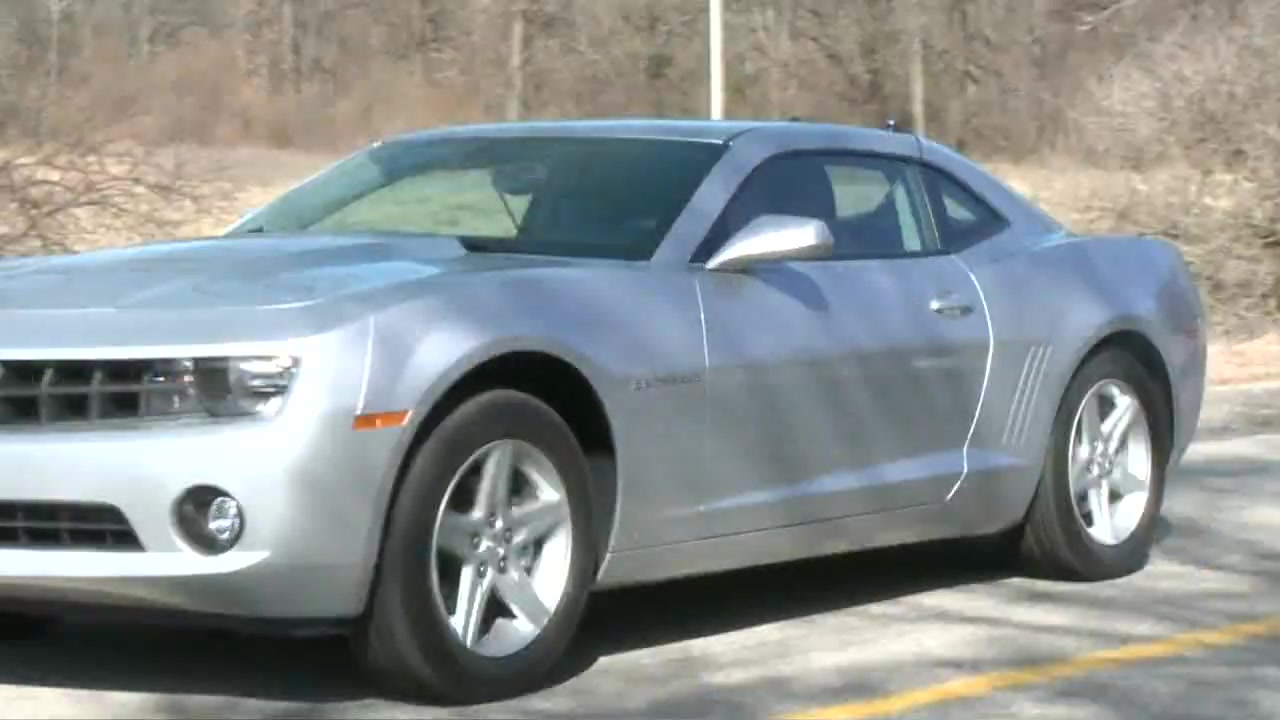car: (3, 115, 1211, 702)
